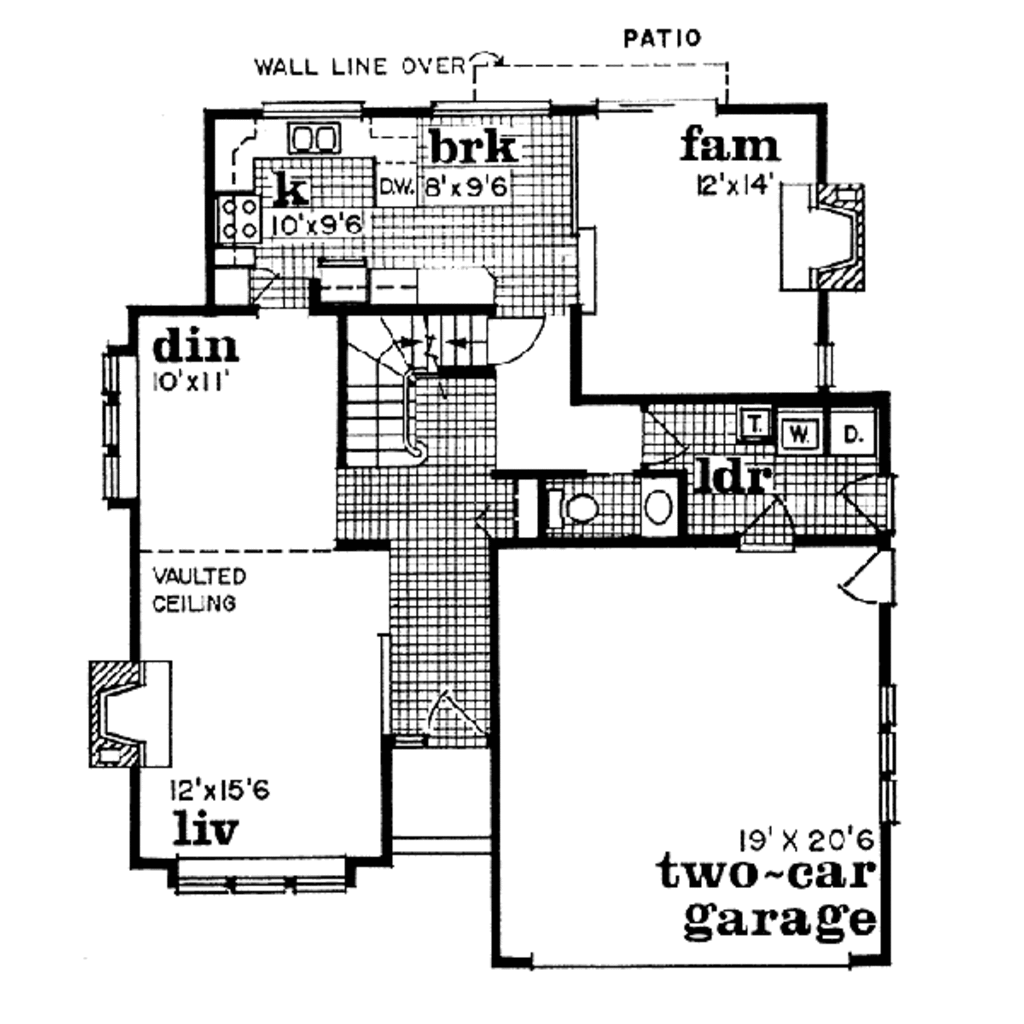door: (422, 690, 494, 754), (846, 537, 902, 607), (742, 492, 802, 557), (633, 400, 692, 464), (485, 311, 547, 368), (844, 468, 899, 532)
large_sink: (542, 481, 610, 532)
small_sink: (637, 472, 690, 540)
stairs: (343, 308, 487, 464)
twin_sink: (278, 113, 358, 154)
window: (872, 676, 913, 825), (170, 867, 358, 896), (98, 350, 126, 506), (427, 88, 551, 118), (257, 90, 371, 119)
